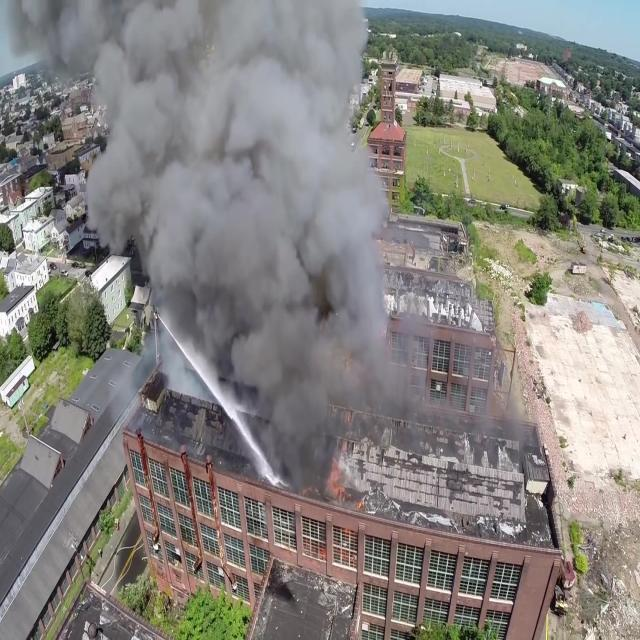Fire: (332, 459, 369, 521)
Smoke: (120, 0, 390, 358), (330, 374, 445, 442), (24, 14, 108, 82), (253, 378, 309, 478)
